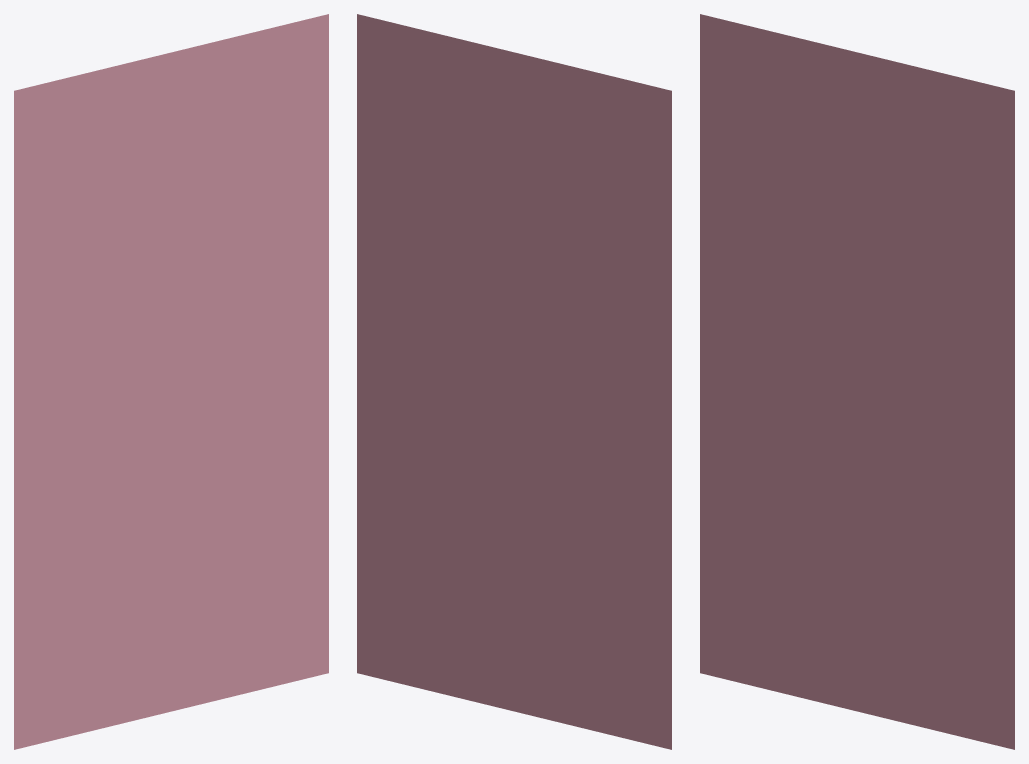
The model's file is BrickWall.fbx.
3 views of the same model, side by side, from view 1: azimuth 30°, elevation 25°; view 2: azimuth 150°, elevation 25°; view 3: azimuth 330°, elevation 25° (orthographic).
Parts seen in each view (by area): view 1: BrickWall; view 2: BrickWall; view 3: BrickWall.
Boxes of the visible parts, x1,y1,x2,y2 form: BrickWall: (14, 14, 328, 749); BrickWall: (357, 14, 671, 749); BrickWall: (700, 14, 1014, 749).
Size of the model in its own units: 200 by 400 by 0.
